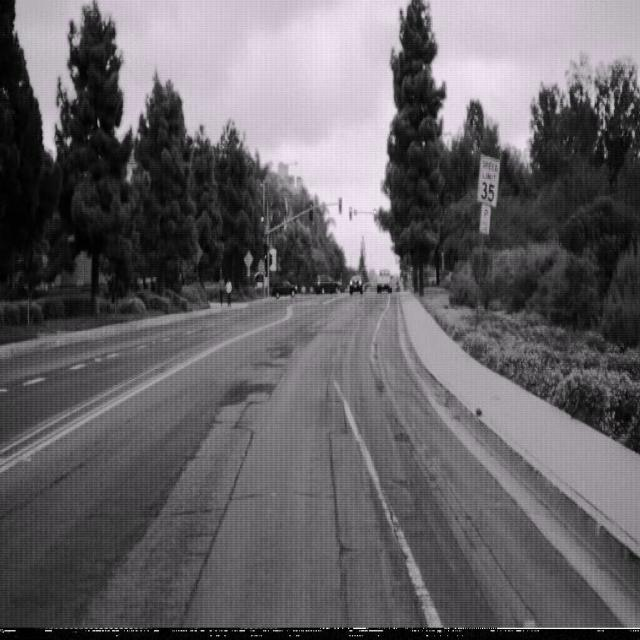speedLimit35: (476, 152, 500, 208)
